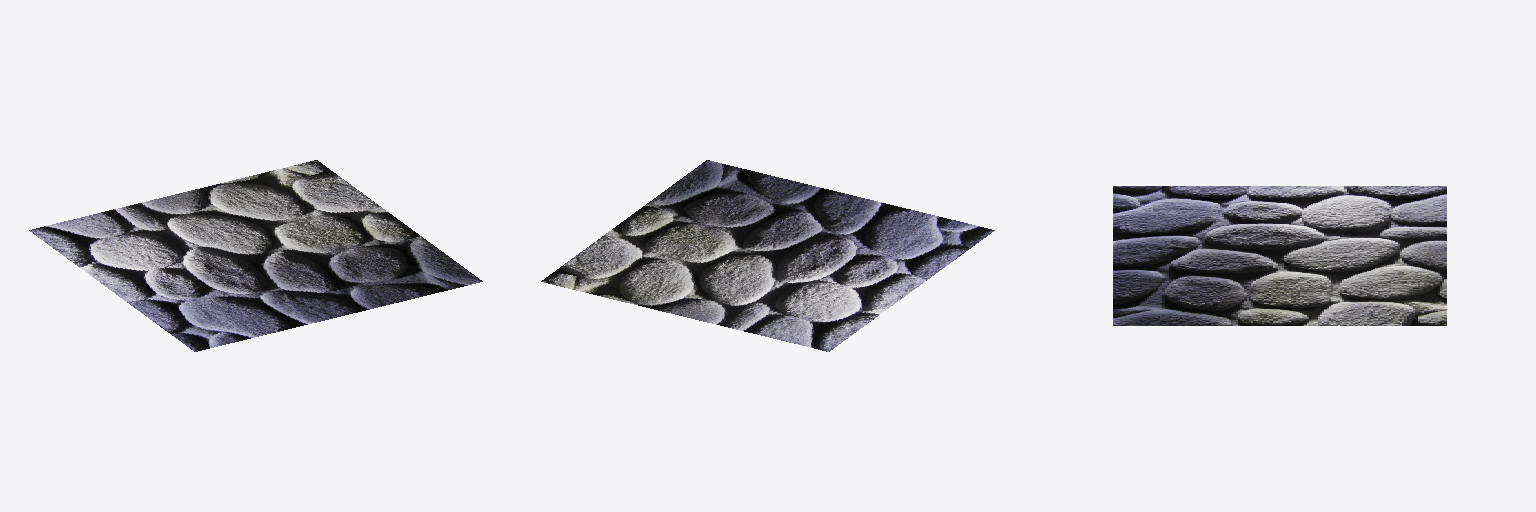
3 renders of one model, left to right at view 1: azimuth 30°, elevation 25°; view 2: azimuth 150°, elevation 25°; view 3: azimuth 270°, elevation 25°, orthographic.
Parts seen in each view (by area): view 1: 平面; view 2: 平面; view 3: 平面.
Boxes of the visible parts, x1,y1,x2,y2 form: 平面: [29, 160, 482, 351]; 平面: [541, 160, 994, 351]; 平面: [1113, 186, 1446, 325].
Size of the model in its own units: 2 by 0 by 2.
Materials: 1 (1 with a texture image).